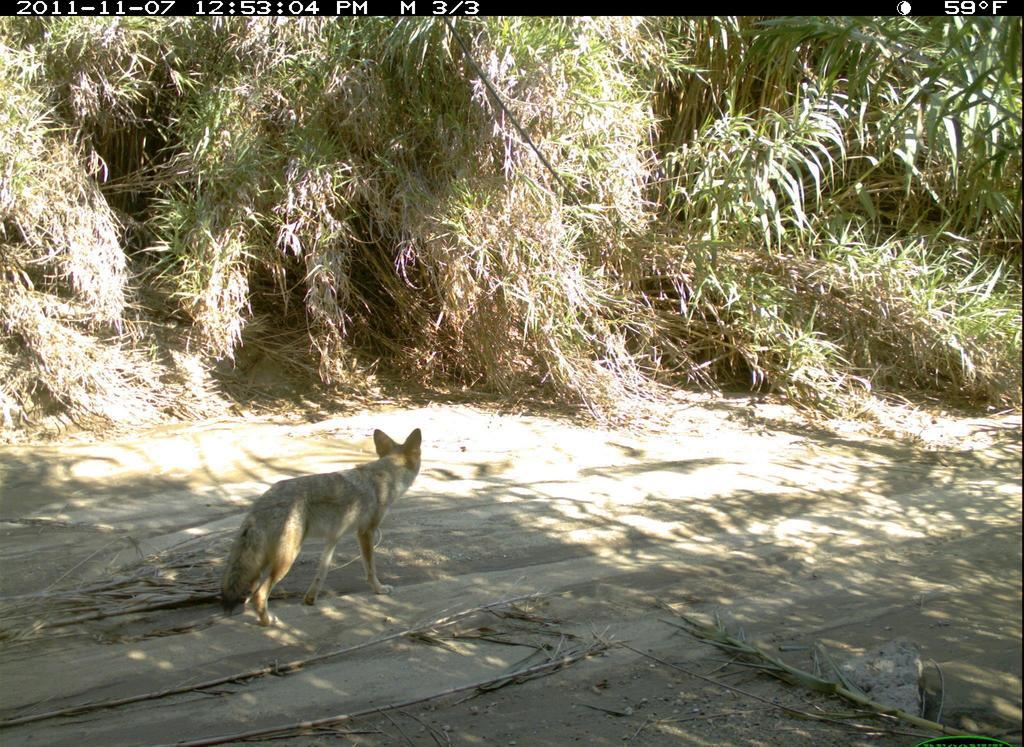coyote: (216, 422, 428, 635)
